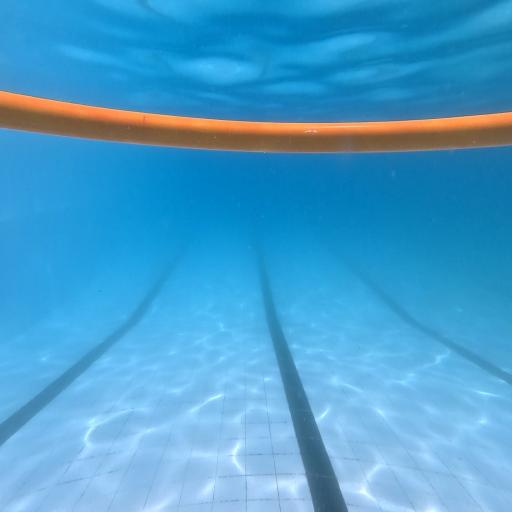upper_gate: (0, 88, 512, 152)
